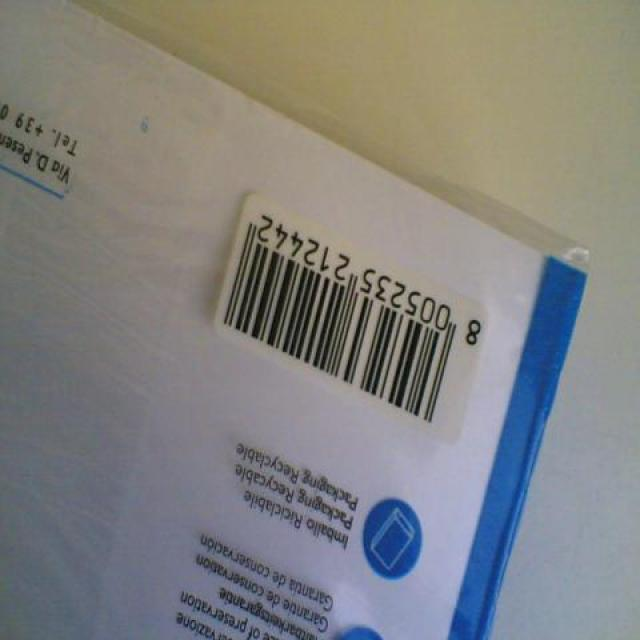Barcode: (214, 189, 487, 448)
